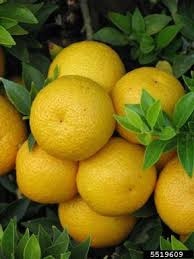orange: (30, 75, 116, 158), (75, 133, 155, 218), (110, 65, 184, 145), (44, 35, 125, 99), (15, 134, 81, 207), (57, 189, 138, 244)
